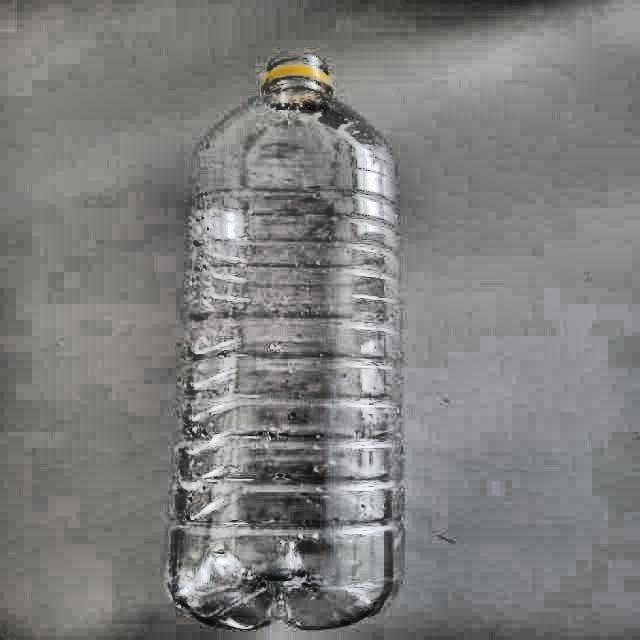plastic bottle: (169, 55, 403, 630)
